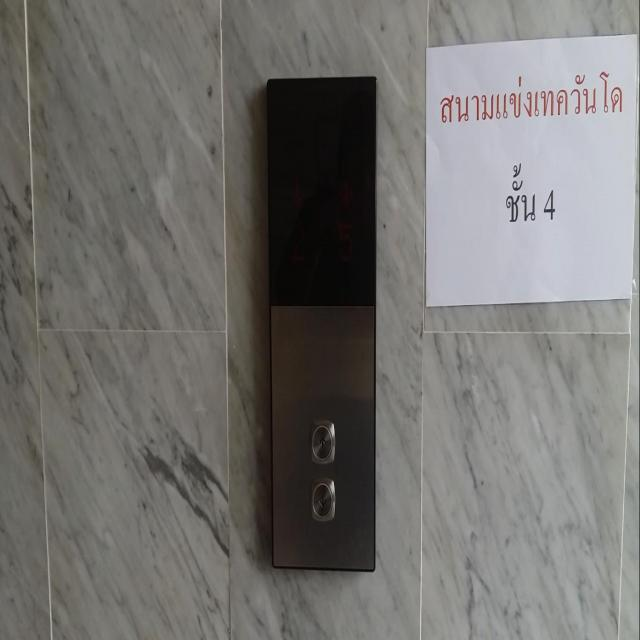down: (308, 473, 335, 522)
led: (265, 72, 377, 306)
up: (309, 417, 335, 463)
